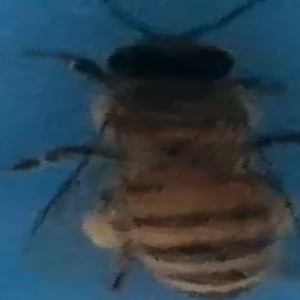bee: (37, 11, 298, 299)
